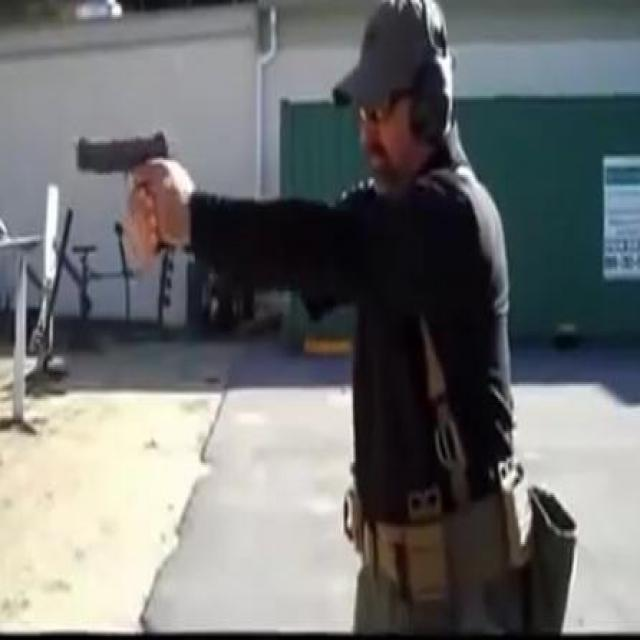gun: (72, 130, 176, 254)
